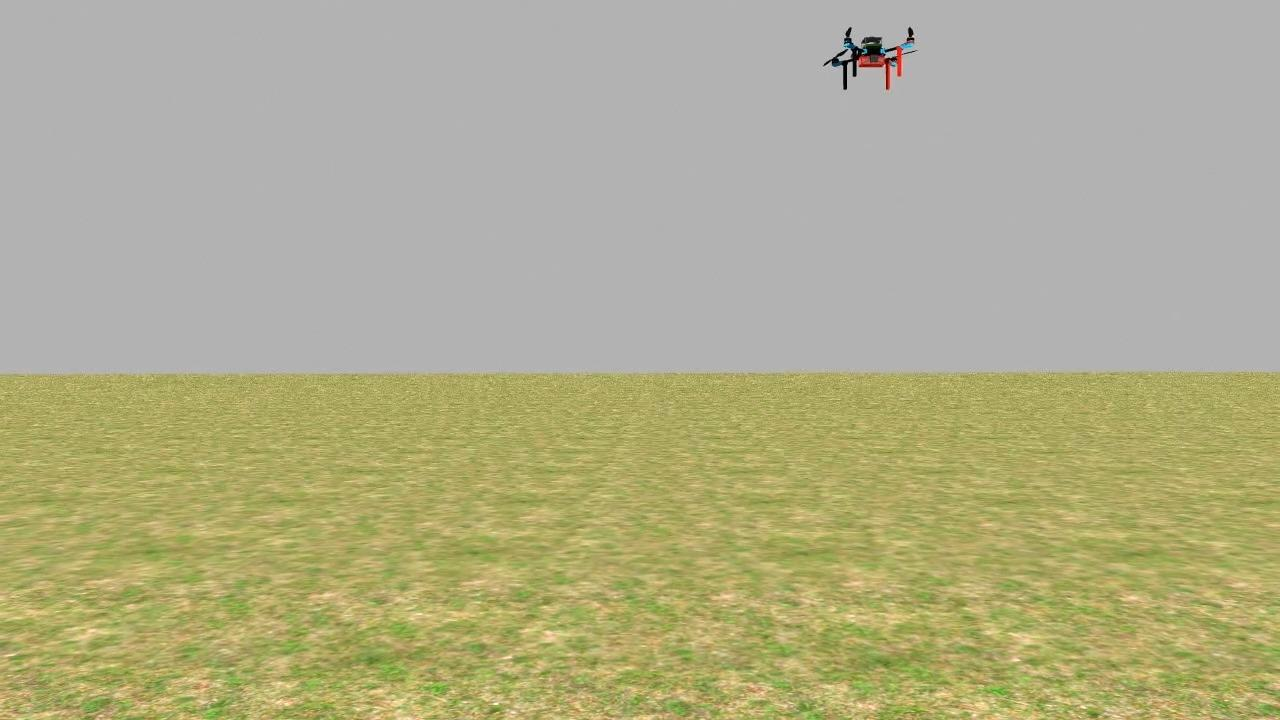UAV: (822, 20, 929, 89)
